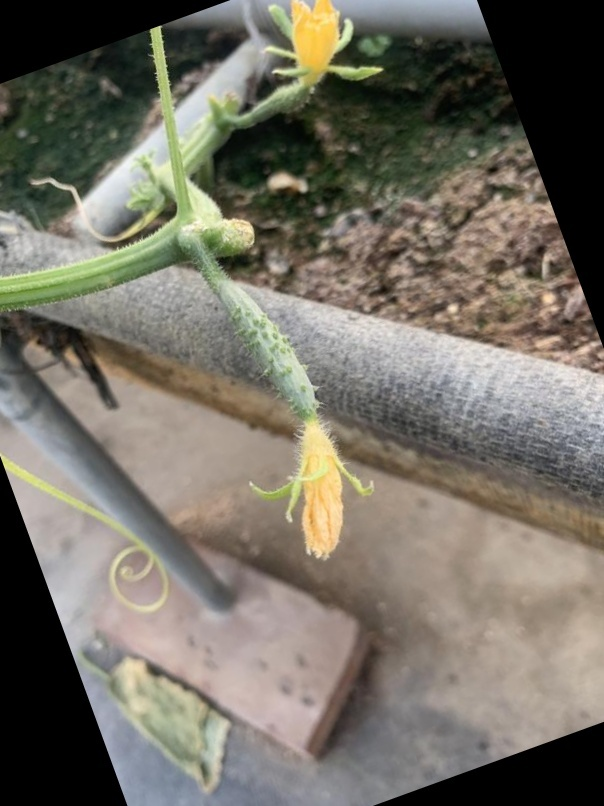bear: (201, 251, 389, 571), (239, 0, 379, 130)
